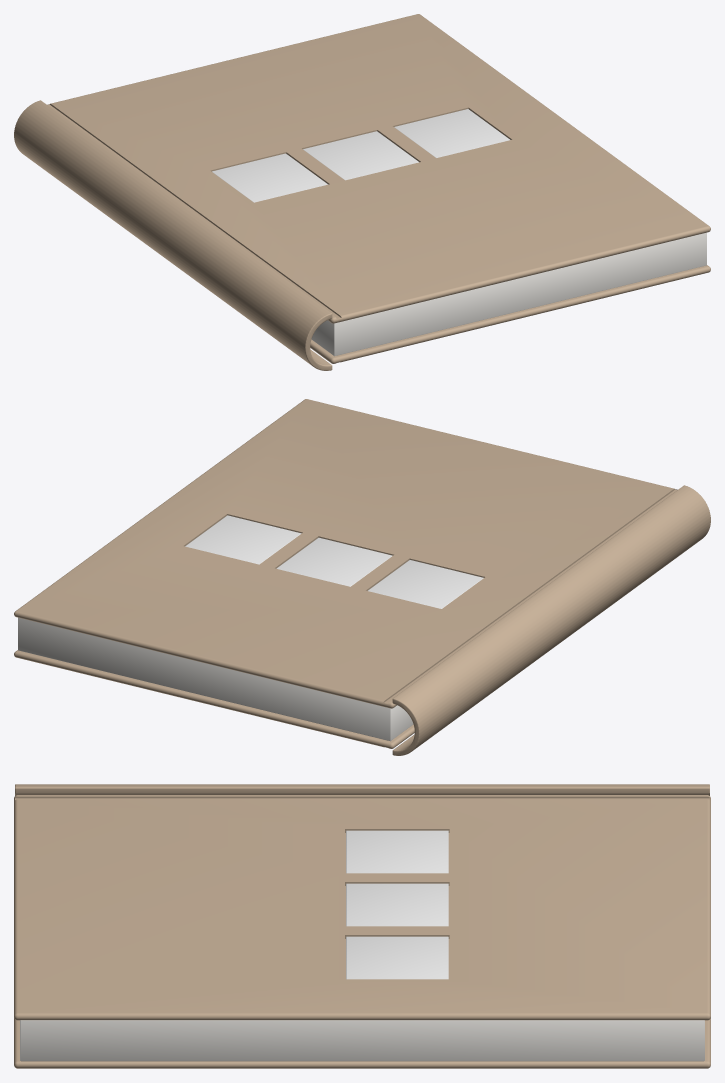
The model's file is trilogy--portrait.glb.
3 views of the same model, one above another, from view 1: azimuth 30°, elevation 25°; view 2: azimuth 150°, elevation 25°; view 3: azimuth 270°, elevation 25° (orthographic). The views are drawn at different scales.
Parts seen in each view (by area): view 1: CoverFront, Spine, Pages, CoverBack, Photo2, Photo3, Photo1; view 2: CoverFront, Spine, Pages, CoverBack, Photo3, Photo2, Photo1; view 3: CoverFront, Pages, Spine, CoverBack, Photo1, Photo2, Photo3.
Boxes of the visible parts, x1=… form: CoverFront: x1=47, y1=14, x2=710, y2=323; Spine: x1=14, y1=100, x2=332, y2=370; Pages: x1=311, y1=232, x2=706, y2=356; CoverBack: x1=310, y1=265, x2=710, y2=363; Photo2: x1=303, y1=131, x2=418, y2=180; Photo3: x1=394, y1=109, x2=509, y2=157; Photo1: x1=212, y1=153, x2=327, y2=202; CoverFront: x1=14, y1=399, x2=677, y2=708; Spine: x1=392, y1=485, x2=710, y2=755; Pages: x1=18, y1=617, x2=413, y2=741; CoverBack: x1=14, y1=650, x2=414, y2=748; Photo3: x1=185, y1=515, x2=301, y2=564; Photo2: x1=276, y1=537, x2=392, y2=586; Photo1: x1=368, y1=560, x2=483, y2=608; CoverFront: x1=14, y1=795, x2=710, y2=1020; Pages: x1=20, y1=1020, x2=704, y2=1061; Spine: x1=15, y1=784, x2=709, y2=795; CoverBack: x1=14, y1=1018, x2=710, y2=1068; Photo1: x1=346, y1=830, x2=448, y2=873; Photo2: x1=346, y1=883, x2=448, y2=926; Photo3: x1=346, y1=936, x2=448, y2=979.
Bounding box in the file's own units: 0.3208 × 0.043 × 0.4.
